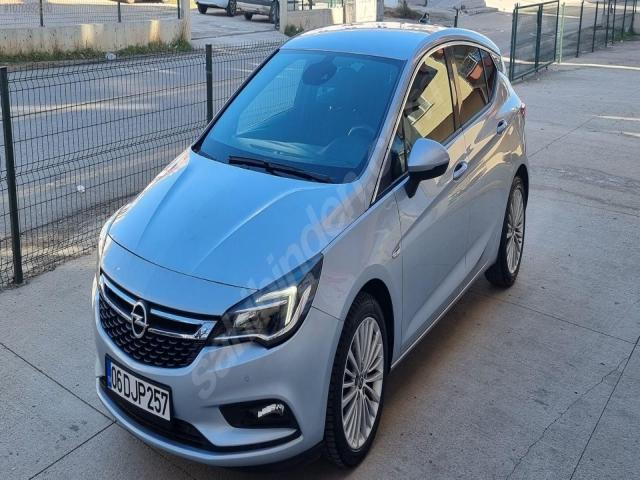plaka: (106, 360, 170, 421)
